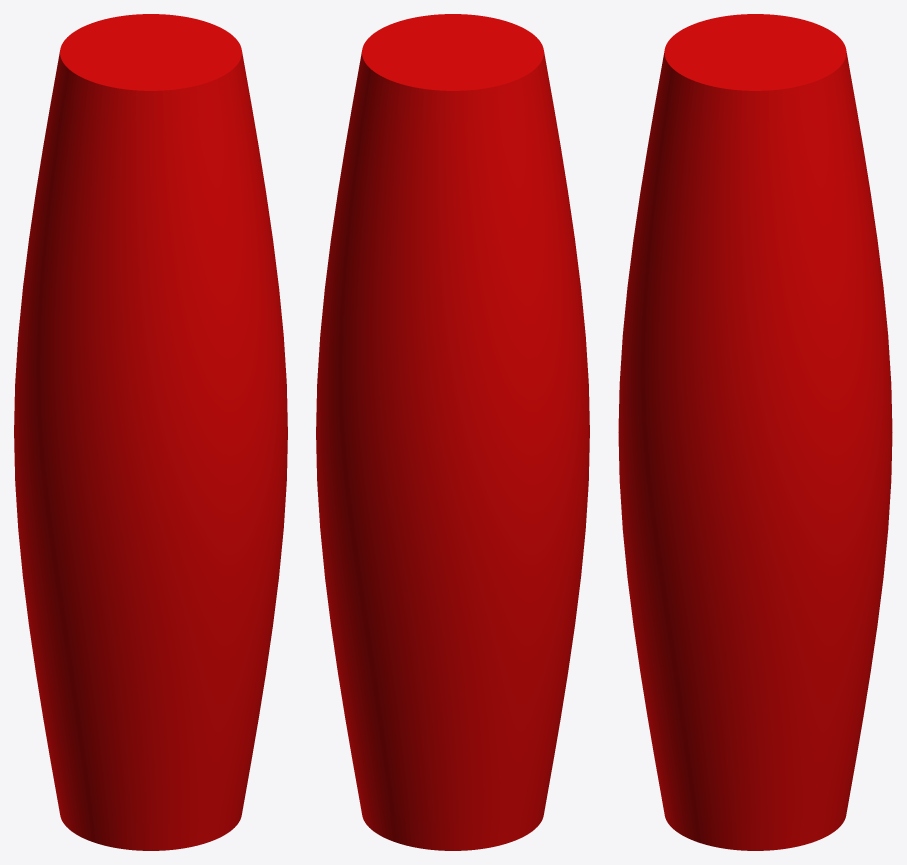
The model's file is Limb.dae.
The picture shows the model from 3 angles, left to right: view 1: azimuth 30°, elevation 25°; view 2: azimuth 150°, elevation 25°; view 3: azimuth 270°, elevation 25°; orthographic projection.
Visible parts, largest first — view 1: Cylinder; view 2: Cylinder; view 3: Cylinder.
Part boxes in pixels (<box>): Cylinder: <box>14,14,287,850</box>; Cylinder: <box>316,14,589,850</box>; Cylinder: <box>618,14,892,850</box>.
Bounding box in the file's own units: 0.6535 × 0.6535 × 2.
